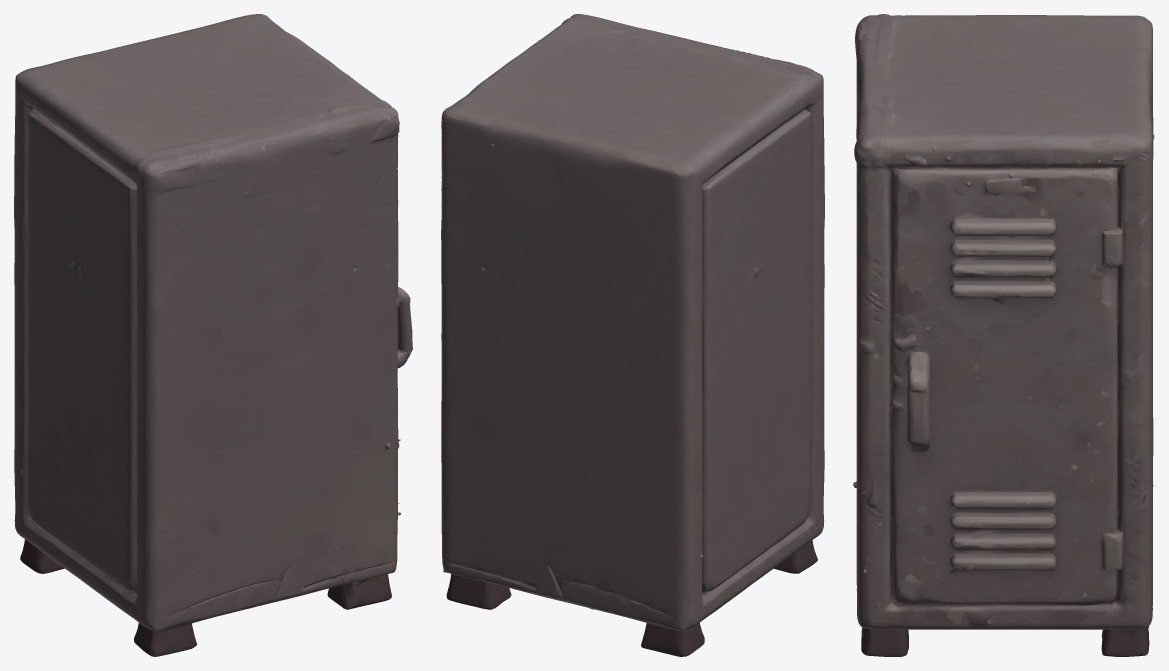
Rendered from locker.glb.
3 views of the same model, side by side, from view 1: azimuth 30°, elevation 25°; view 2: azimuth 150°, elevation 25°; view 3: azimuth 270°, elevation 25° (orthographic). The views are drawn at different scales.
Visible parts, largest first — view 1: tripo_node_b8c5d8c0-b5c7-49a6-bdf8-98726c8ca86d; view 2: tripo_node_b8c5d8c0-b5c7-49a6-bdf8-98726c8ca86d; view 3: tripo_node_b8c5d8c0-b5c7-49a6-bdf8-98726c8ca86d.
Part boxes in pixels (box(x1,y1,x2,y2)): tripo_node_b8c5d8c0-b5c7-49a6-bdf8-98726c8ca86d: box(14, 14, 412, 656); tripo_node_b8c5d8c0-b5c7-49a6-bdf8-98726c8ca86d: box(441, 14, 824, 656); tripo_node_b8c5d8c0-b5c7-49a6-bdf8-98726c8ca86d: box(853, 14, 1154, 656).
Size of the model in its own units: 0.608 by 0.9788 by 0.5135.
1 material, 1 textured.
